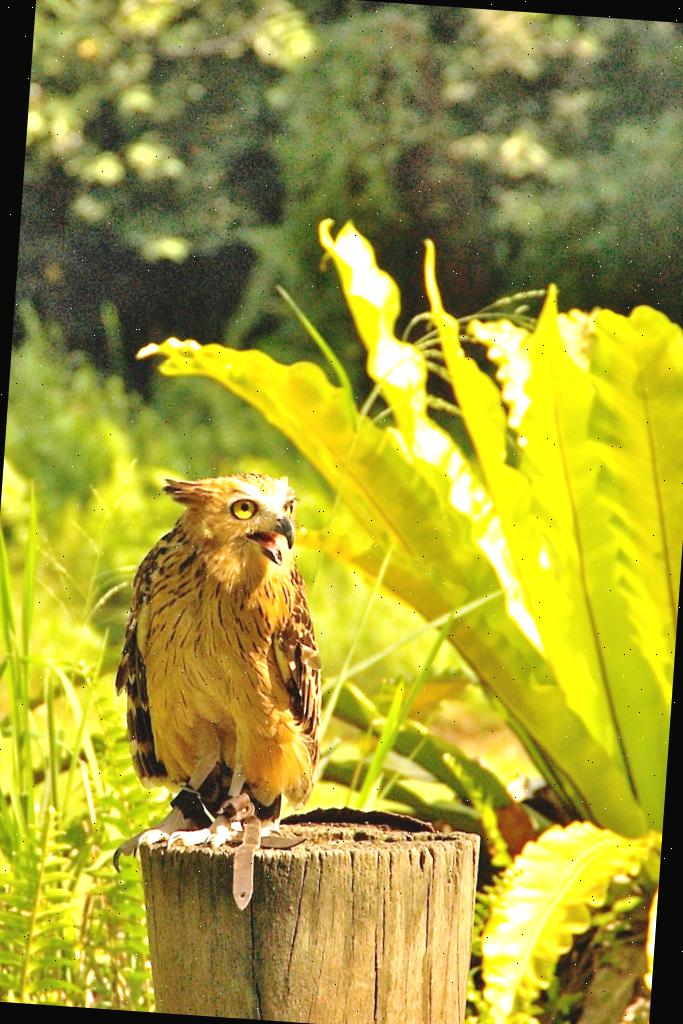Owl: (110, 460, 331, 898)
